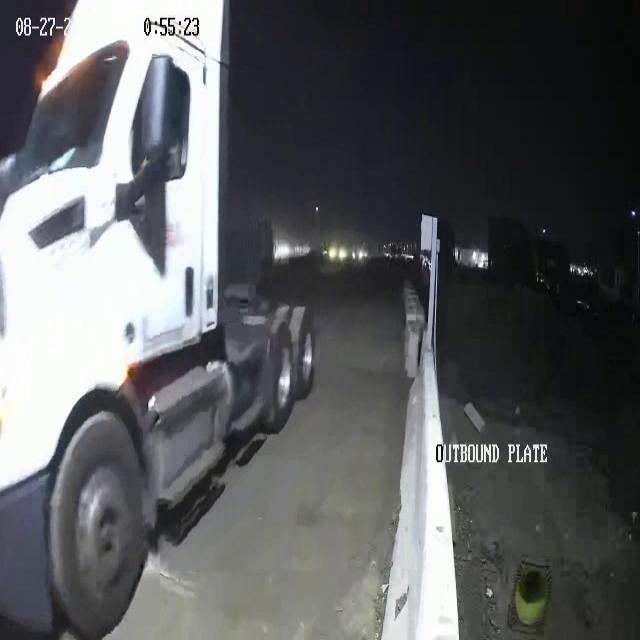TRUCK_OUT: (1, 2, 317, 637)
